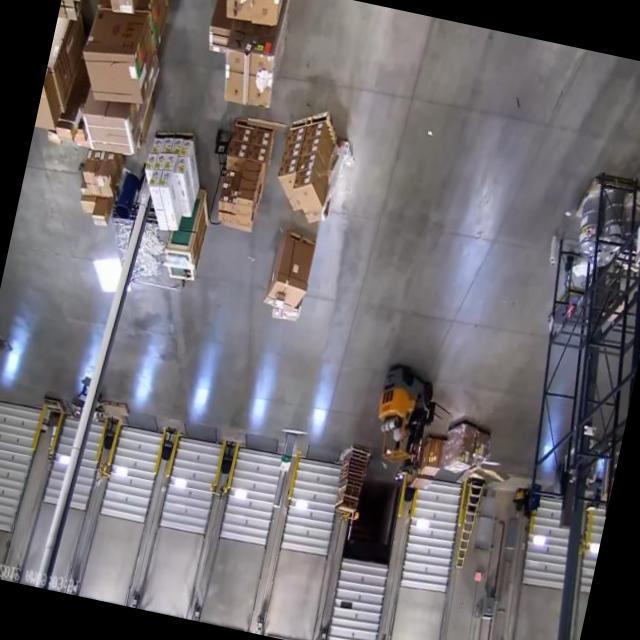driver: (391, 425, 408, 450)
forklift: (366, 360, 442, 477)
